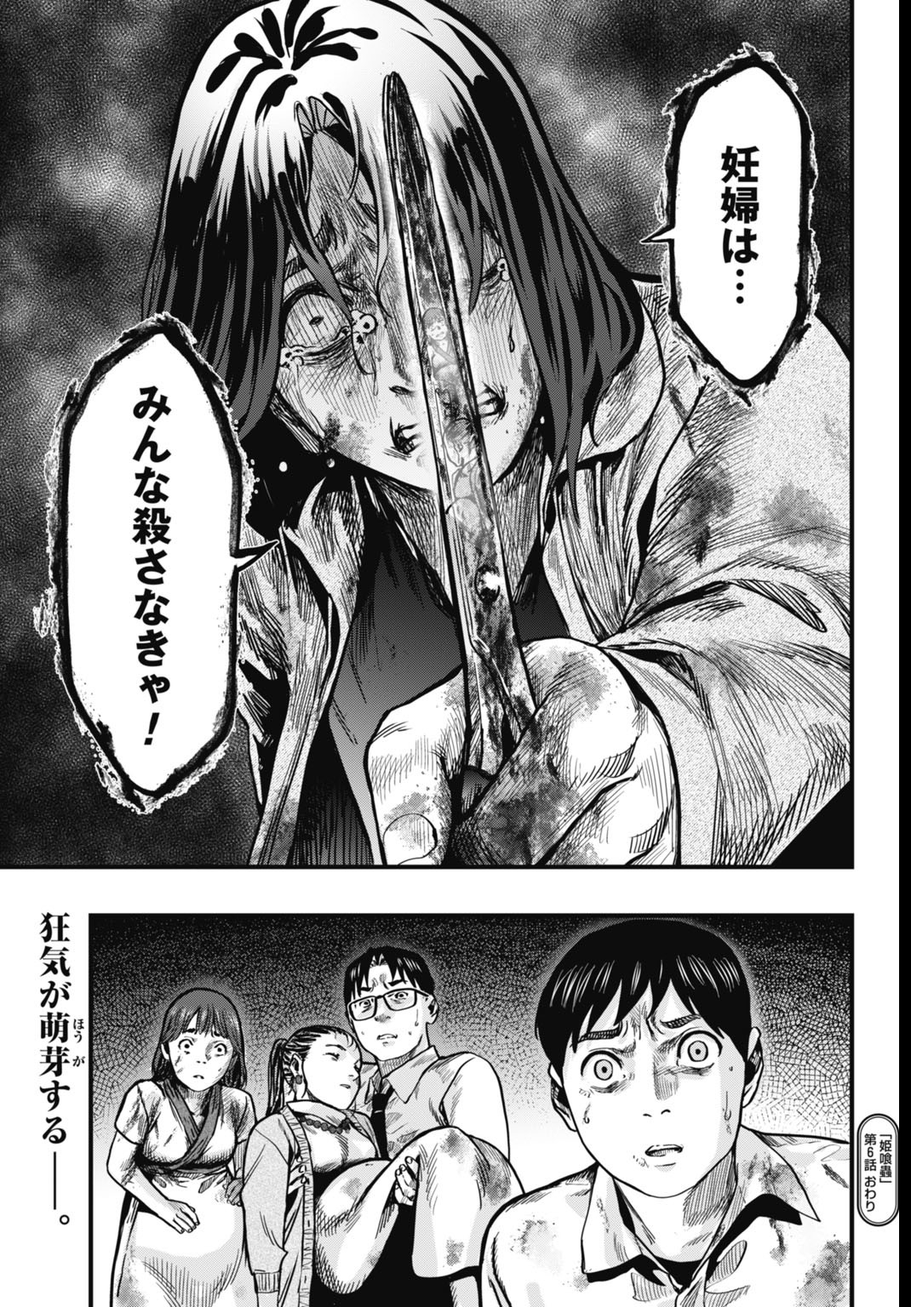bubbles: (28, 309, 289, 819), (639, 39, 839, 391)
